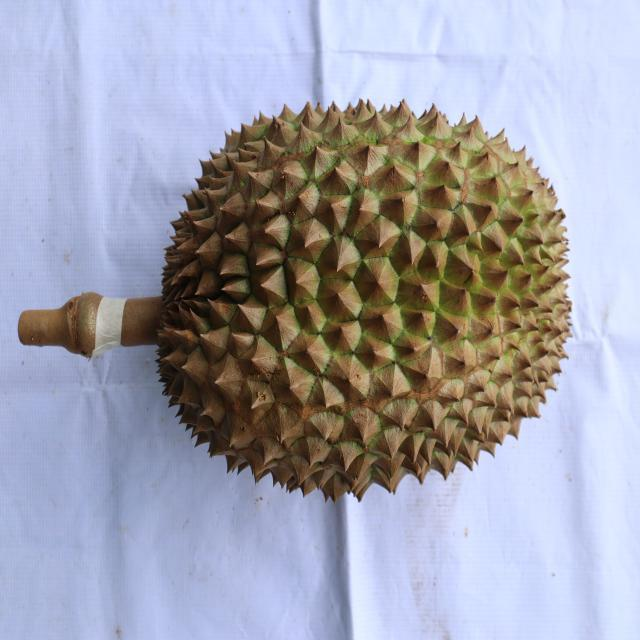mature: (156, 100, 573, 502)
